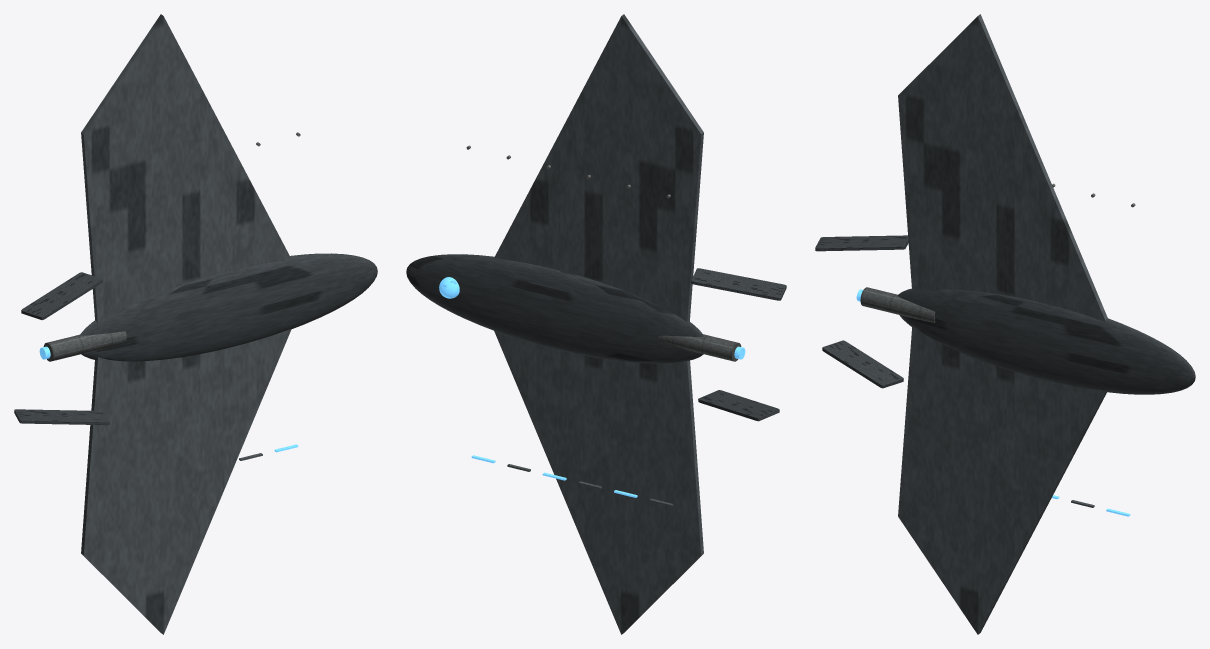
File: s-u22-specter-recon-drone-lod0.glb
The picture shows the model from 3 angles, left to right: view 1: azimuth 30°, elevation 25°; view 2: azimuth 150°, elevation 25°; view 3: azimuth 330°, elevation 25°; orthographic projection.
Visible parts, largest first — view 1: recon_drone_wing, recon_drone_spine, recon_drone_vtail_1, recon_engine_0, recon_drone_vtail_-1; view 2: recon_drone_wing, recon_drone_spine, recon_drone_vtail_1, recon_drone_vtail_-1, recon_engine_0; view 3: recon_drone_wing, recon_drone_spine, recon_drone_vtail_-1, recon_drone_vtail_1, recon_engine_0.
Boxes of the visible parts, x1,y1,x2,y2 form: recon_drone_wing: [81, 14, 291, 634]; recon_drone_spine: [79, 253, 377, 361]; recon_drone_vtail_1: [21, 272, 102, 319]; recon_engine_0: [43, 331, 126, 361]; recon_drone_vtail_-1: [14, 409, 109, 425]; recon_drone_wing: [494, 14, 703, 634]; recon_drone_spine: [406, 254, 704, 363]; recon_drone_vtail_1: [691, 268, 786, 300]; recon_drone_vtail_-1: [698, 390, 779, 421]; recon_engine_0: [658, 334, 741, 361]; recon_drone_wing: [898, 14, 1107, 634]; recon_drone_spine: [897, 288, 1195, 394]; recon_drone_vtail_-1: [822, 340, 903, 388]; recon_drone_vtail_1: [815, 235, 908, 251]; recon_engine_0: [860, 287, 935, 322].
Size of what is drawn, in the model's own units: 7.1 by 11.48 by 1.1.
Materials: 5 (5 with a texture image).
